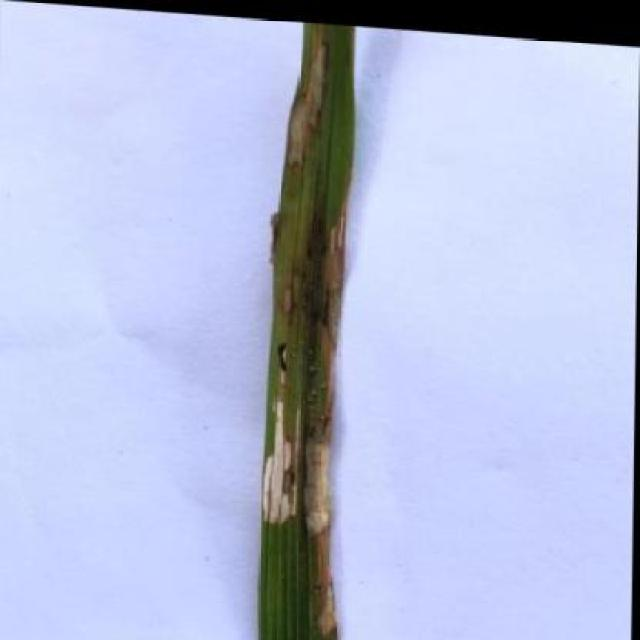Brown_Spot: (254, 15, 364, 640)
